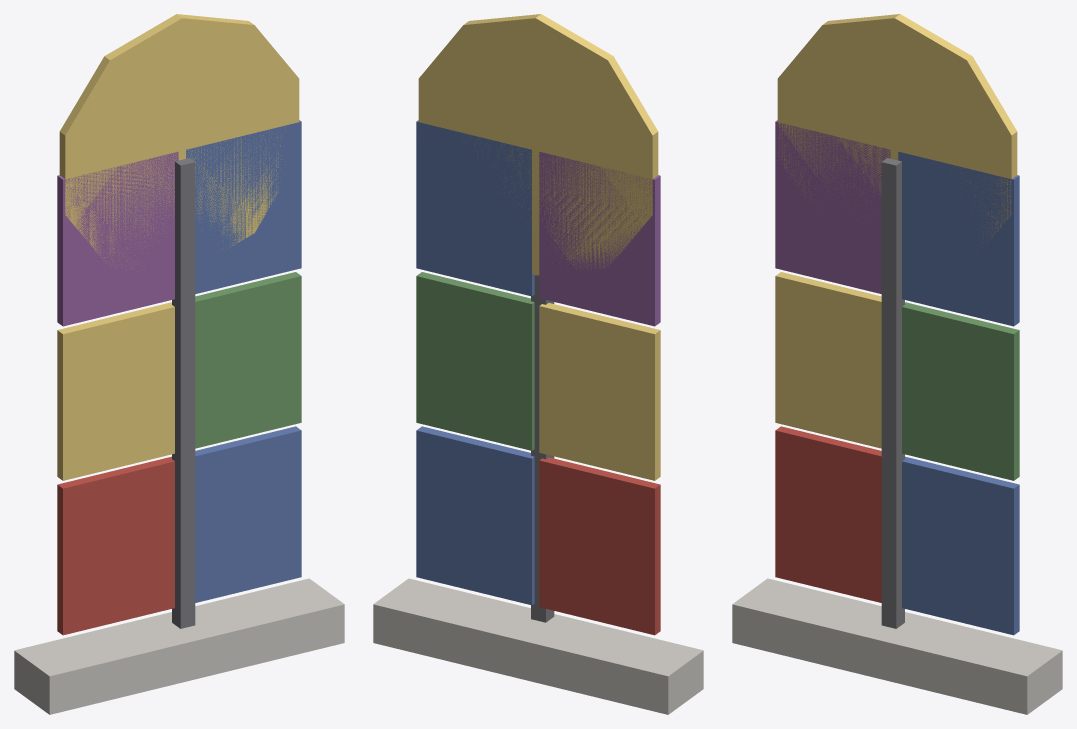
File: window_stained.glb
3 renders of one model, left to right at view 1: azimuth 30°, elevation 25°; view 2: azimuth 150°, elevation 25°; view 3: azimuth 330°, elevation 25°, orthographic.
Visible parts, largest first — view 1: window_stained; view 2: window_stained; view 3: window_stained.
Part boxes in pixels (bbox=[...]): window_stained: bbox=[14, 14, 344, 714]; window_stained: bbox=[373, 14, 703, 714]; window_stained: bbox=[732, 14, 1062, 714].
Bounding box in the file's own units: 1.2 × 2.53 × 0.25.
